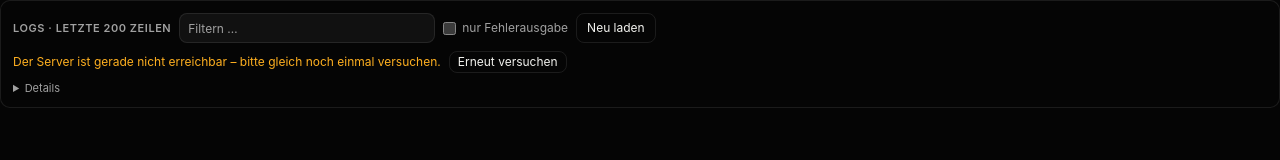
Test: Server-Logs: Fehler mit aufklappbaren Details › einfacher Satz sichtbar, Technik erst unter „Details“
The width and height of the screenshot is (1280, 160).
Click the heading "Details". click: (42, 88)
box: [25,81,60,95]
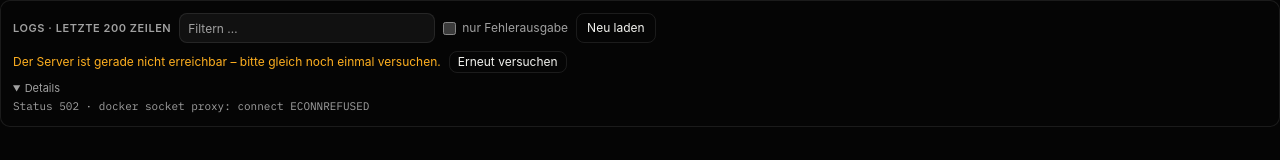
Expected: the text "Details" shows "502", [13,100,369,114]
